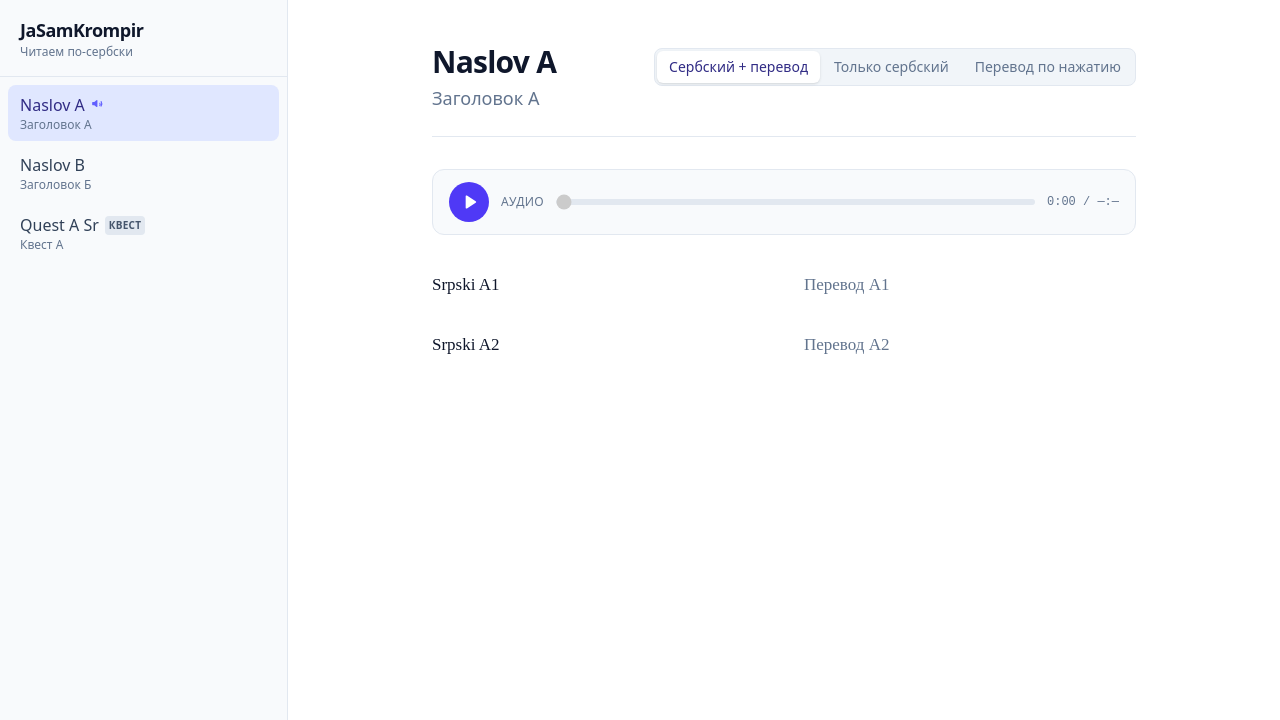
Test: App › opens a quest in the reading pane and resets when switching away and back
Expected: the text "Srpski A1" is shown, x1=432 y1=275 x2=500 y2=294
Click the button "Quest A Sr Квест Квест А". click: (144, 233)
box: x1=8 y1=205 x2=279 y2=261
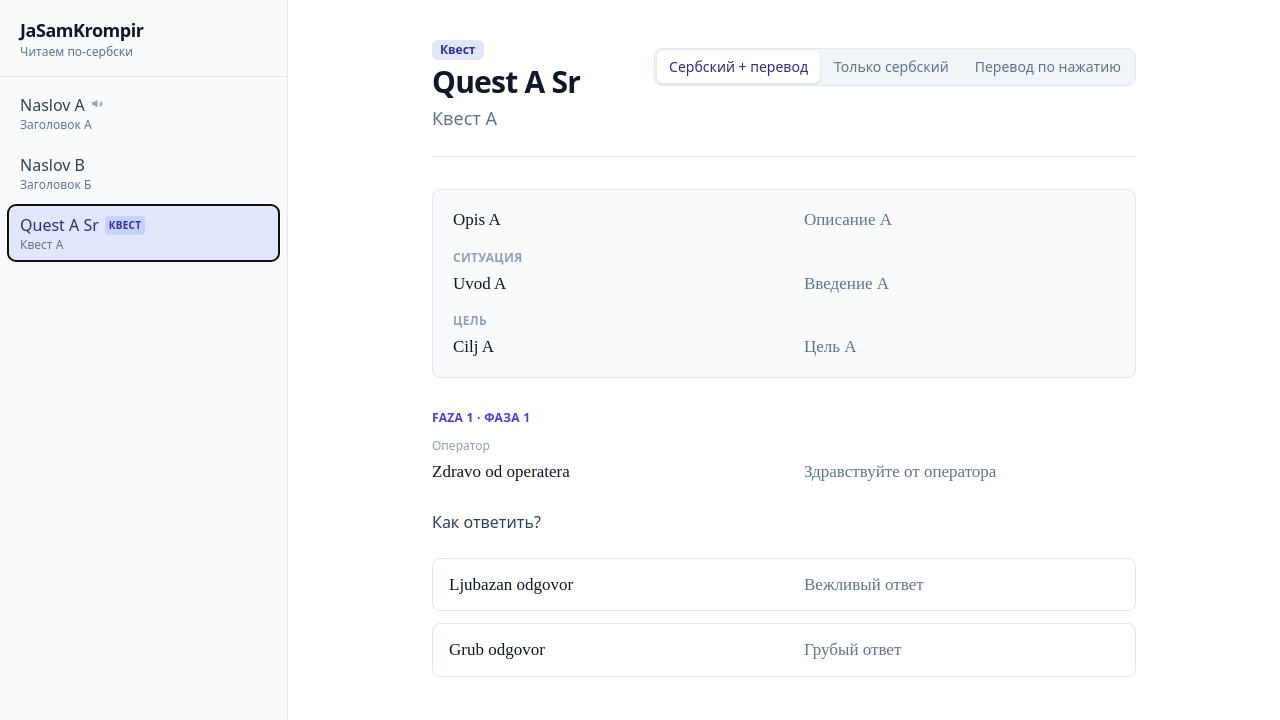
Expected: the text "Zdravo od operatera" is shown, x1=432 y1=462 x2=570 y2=481
Click the button "Ljubazan odgovor Вежливый ответ". click: (511, 584)
box: x1=432 y1=558 x2=1136 y2=611
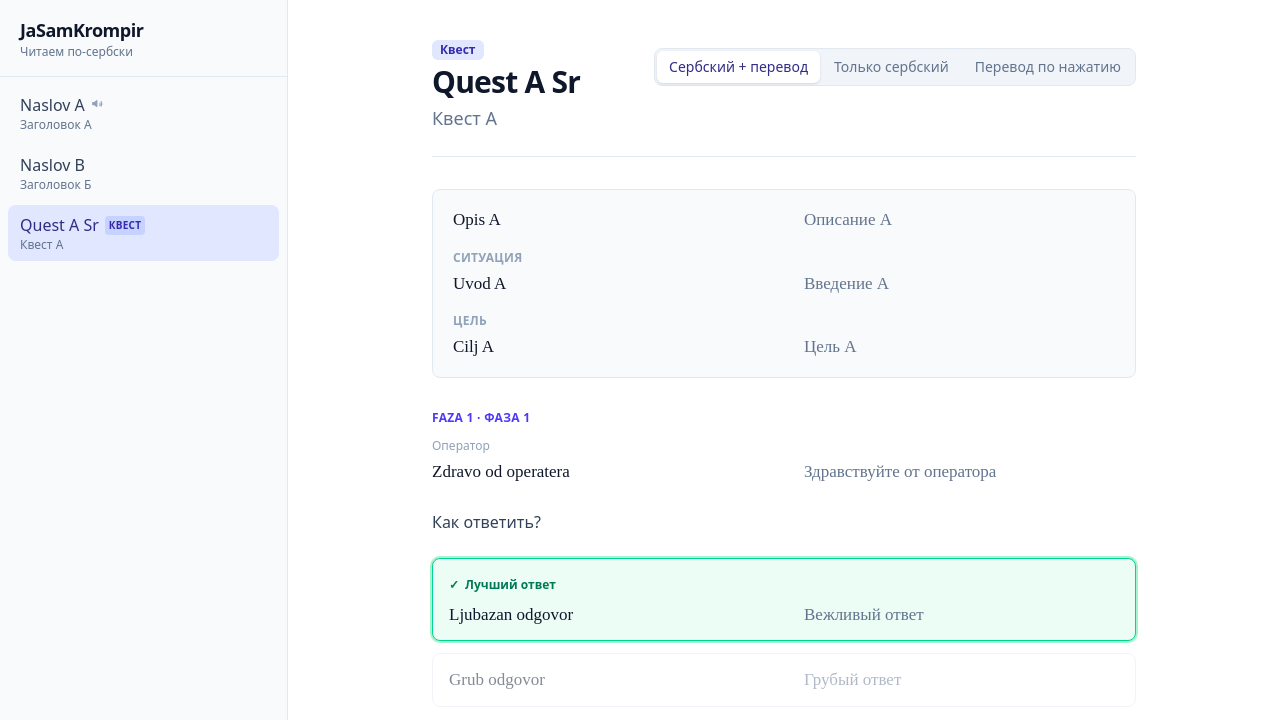
// Switch to another item, then back — quest progress must reset.
Click the button "Naslov A Заголовок А". click: (52, 105)
box: x1=8 y1=85 x2=279 y2=141
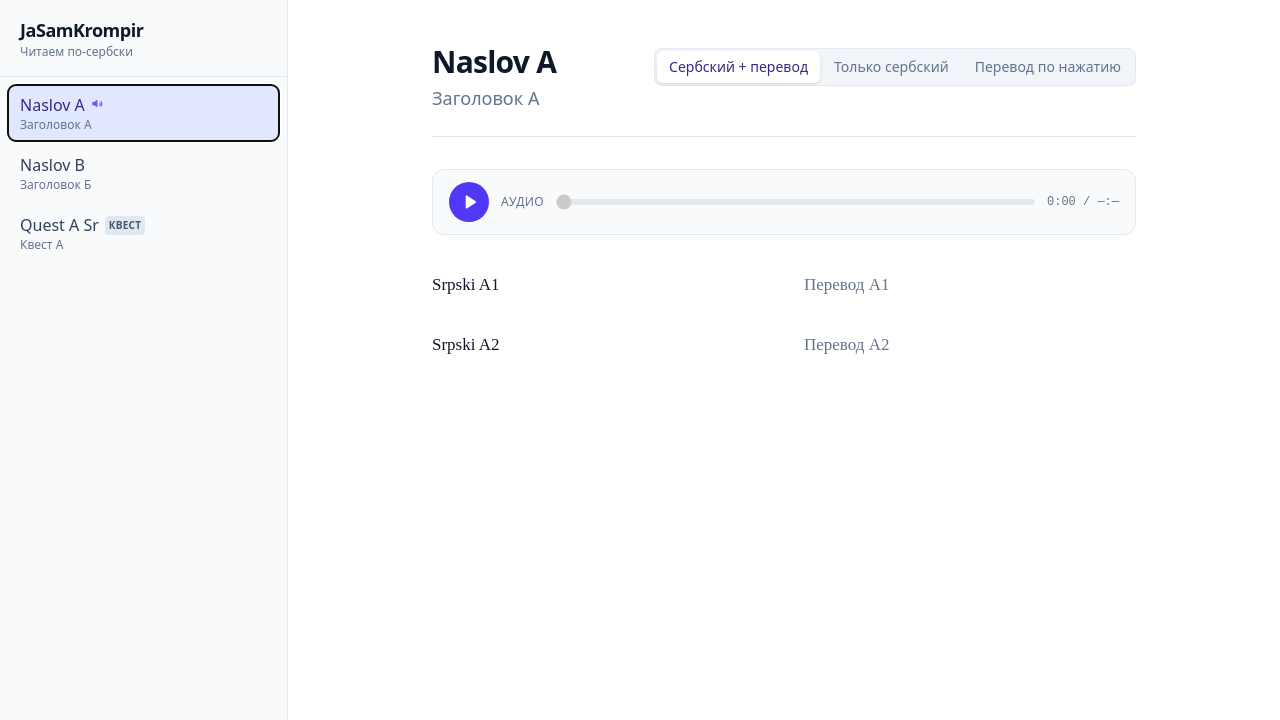
Expected: the text "Srpski A1" is shown, x1=432 y1=275 x2=500 y2=294
Click the button "Quest A Sr Квест Квест А". click: (144, 233)
box: x1=8 y1=205 x2=279 y2=261
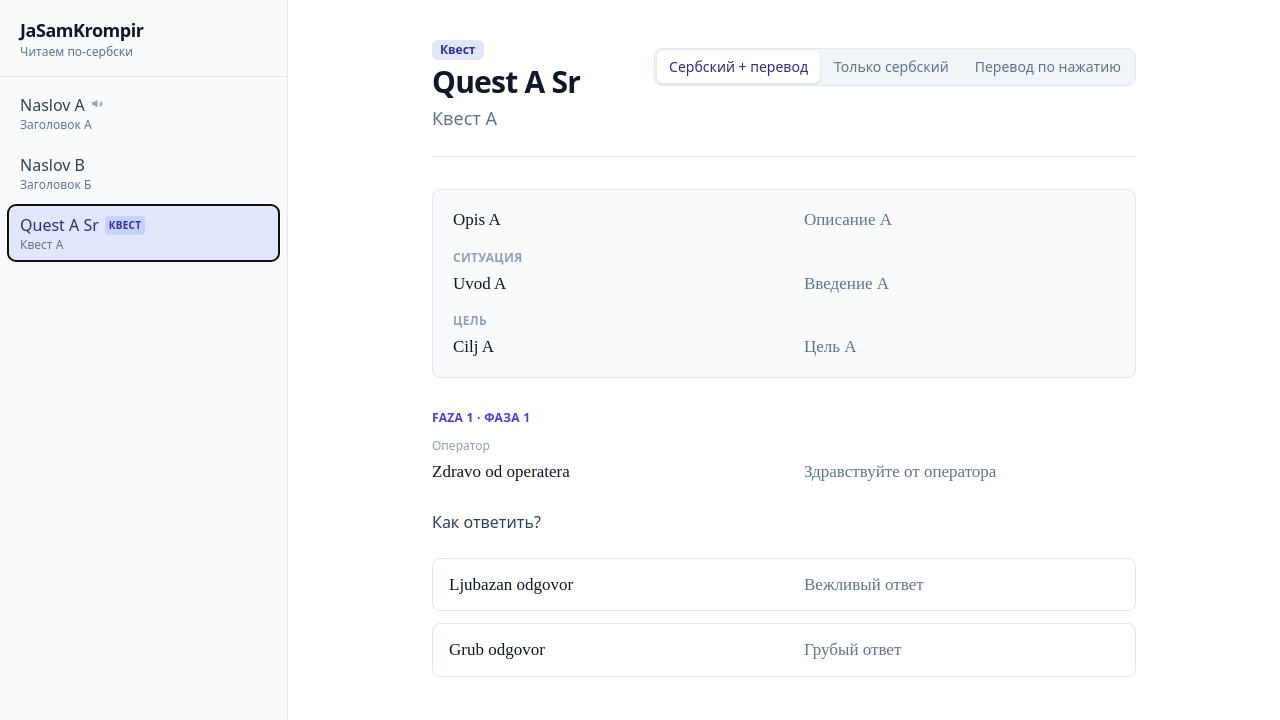
Expected: the text "Zdravo od operatera" is shown, x1=432 y1=462 x2=570 y2=481
